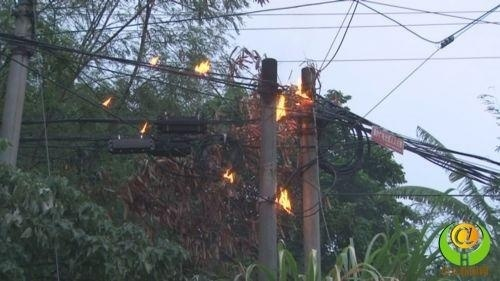fire: (274, 184, 294, 213), (273, 91, 288, 122), (294, 78, 311, 101), (220, 164, 238, 183), (193, 57, 211, 75), (136, 119, 150, 136), (100, 94, 115, 108), (148, 53, 160, 66)
